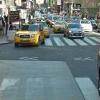Crosswalk: (44, 33, 99, 55)
